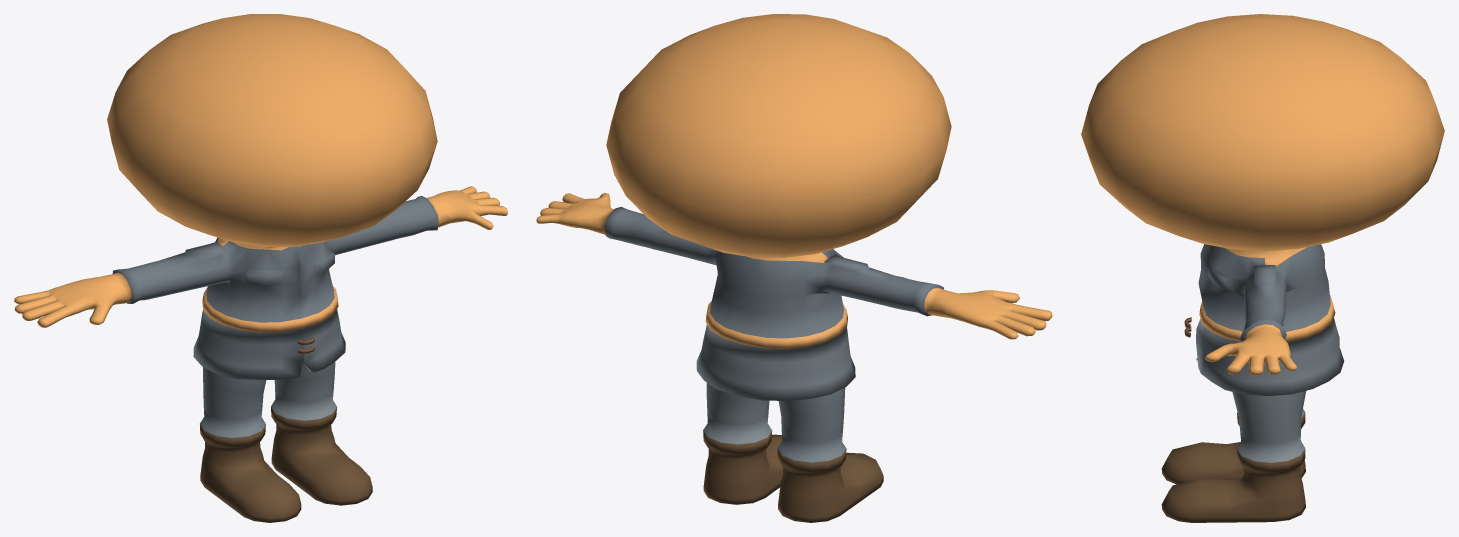
The model's file is Soldier.fbx.
3 renders of one model, left to right at view 1: azimuth 30°, elevation 25°; view 2: azimuth 150°, elevation 25°; view 3: azimuth 270°, elevation 25°, orthographic. The views are drawn at different scales.
Visible parts, largest first — view 1: Soldier; view 2: Soldier; view 3: Soldier.
Part boxes in pixels (x1=…): Soldier: x1=14, y1=14, x2=507, y2=522; Soldier: x1=536, y1=14, x2=1052, y2=522; Soldier: x1=1081, y1=14, x2=1444, y2=522.
Bounding box in the file's own units: 60.76 × 53.52 × 38.87.
